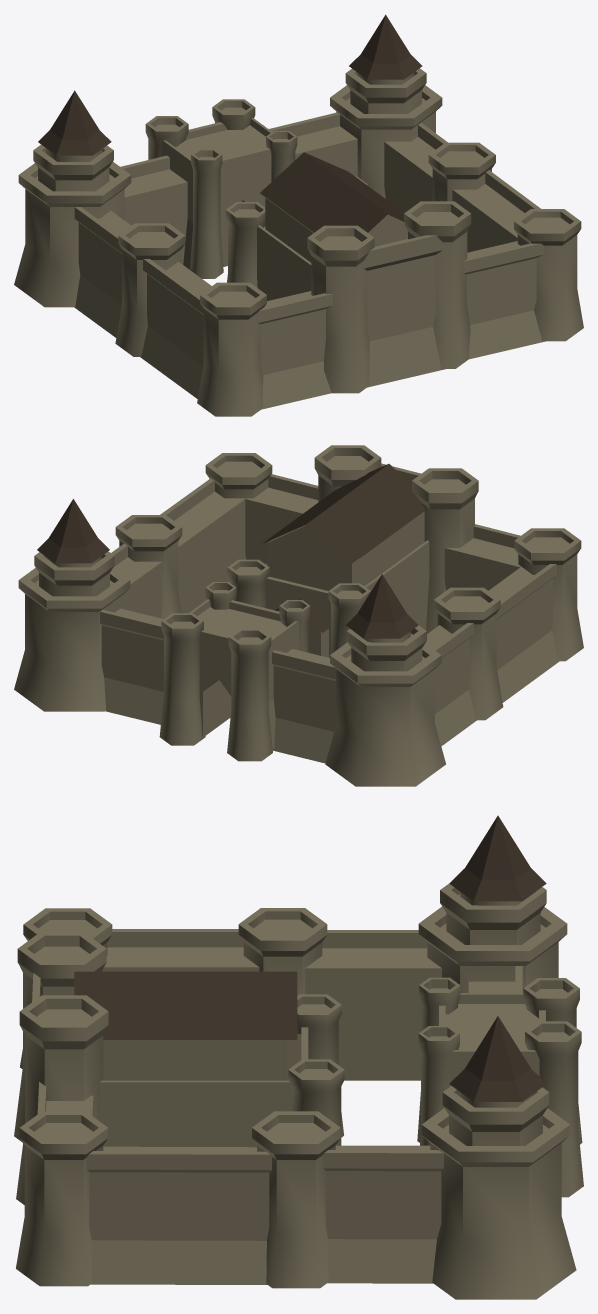
The model's file is castle_lite.glb.
3 views of the same model, one above another, from view 1: azimuth 30°, elevation 25°; view 2: azimuth 150°, elevation 25°; view 3: azimuth 270°, elevation 25° (orthographic). The views are drawn at different scales.
Visible parts, largest first — view 1: Castle; view 2: Castle; view 3: Castle.
Boxes of the visible parts, bbox=[...] form: Castle: bbox=[14, 14, 583, 416]; Castle: bbox=[14, 445, 583, 786]; Castle: bbox=[14, 815, 583, 1299].
Size of the model in its own units: 1.38 by 0.6508 by 1.28.
